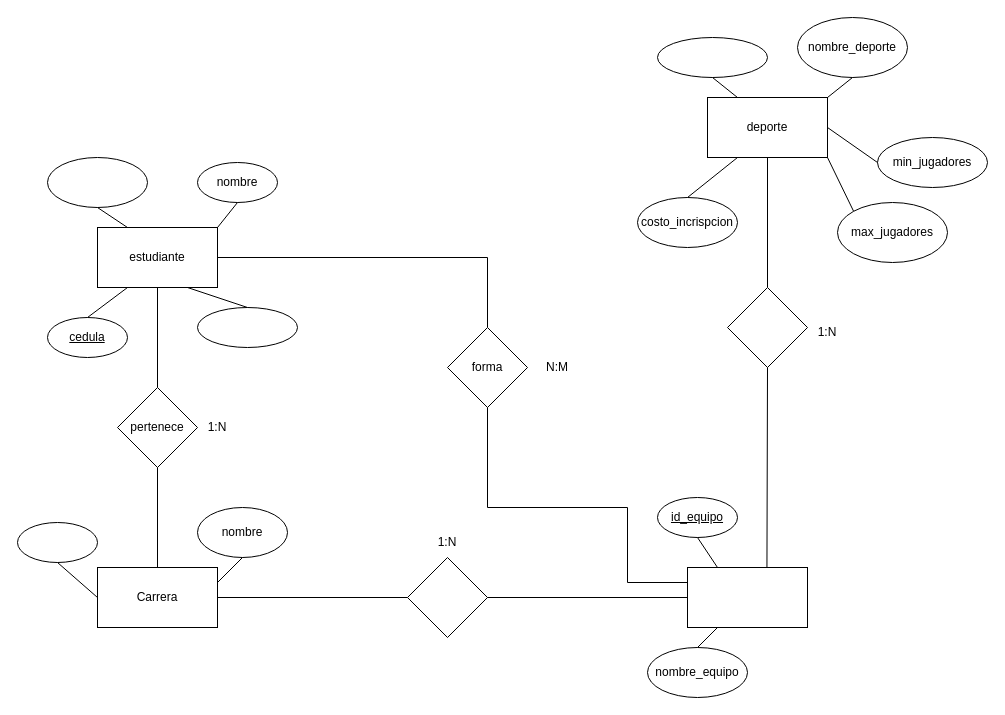
Some shapes in this 1005 by 715 pixel diagram are drawn without their labels. Each missing label, with the centre of its shape:
"apellido" belongs at (x=247, y=327).
"equipo" belongs at (x=747, y=597).
"id_carrera" belongs at (x=57, y=542).
"id_deporte" belongs at (x=712, y=57).
"inscribir" belongs at (x=447, y=597).
"participa" belongs at (x=767, y=327).
"sexo" belongs at (x=97, y=182).
